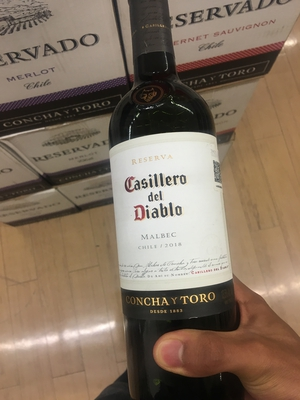casillero del diablo malbec: (98, 10, 252, 400)
